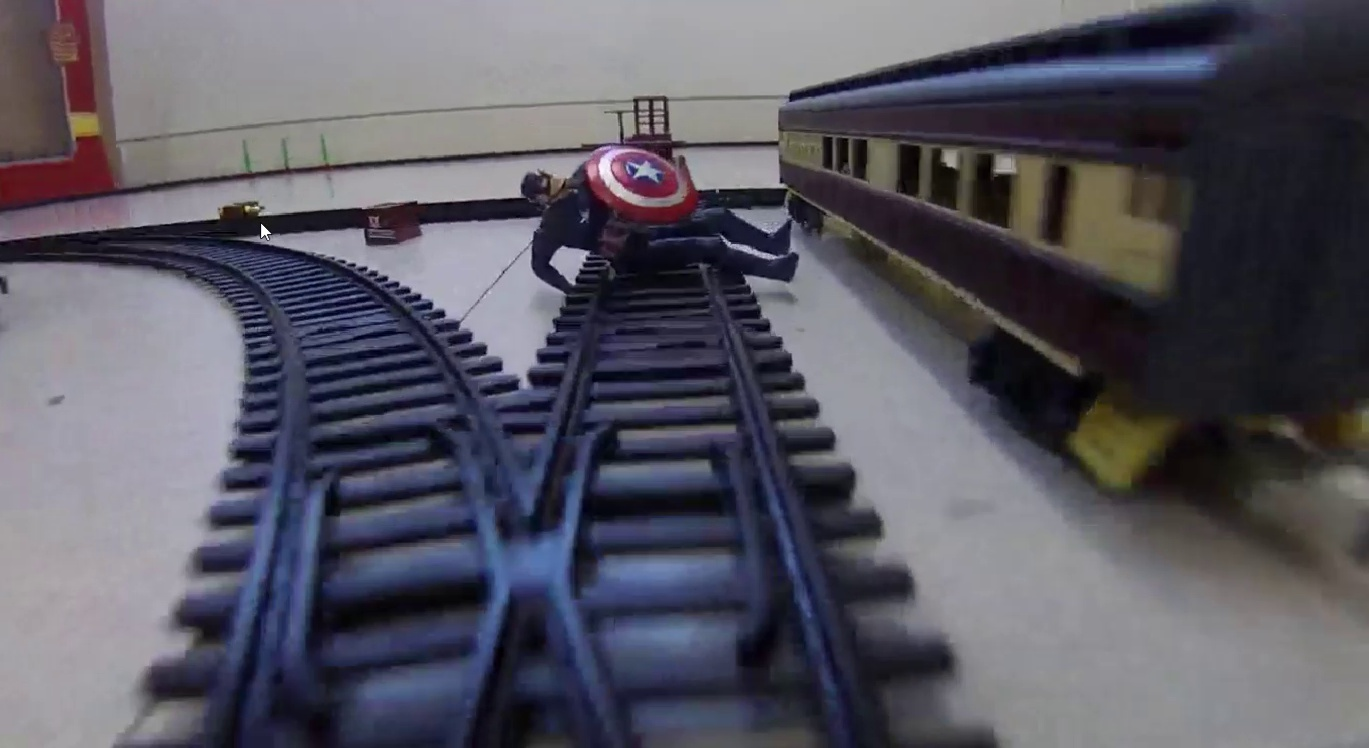box: (364, 201, 426, 246)
people: (521, 143, 800, 293)
